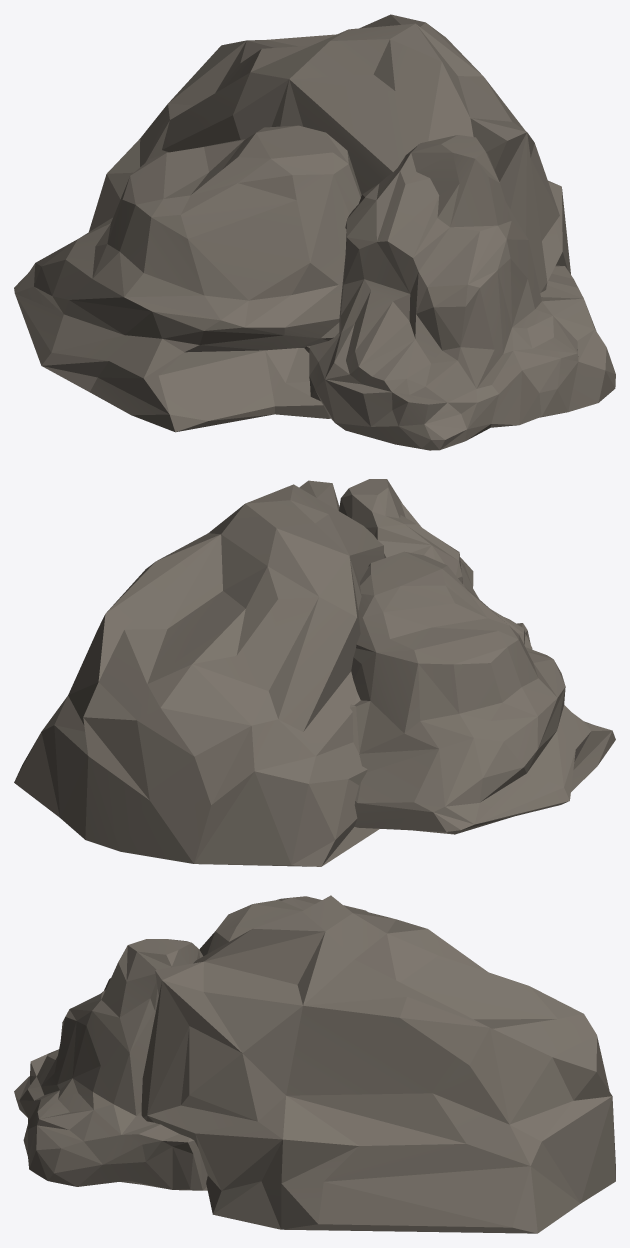
File: RockPile2.fbx
3 renders of one model, top to bottom at view 1: azimuth 30°, elevation 25°; view 2: azimuth 150°, elevation 25°; view 3: azimuth 270°, elevation 25°, orthographic. The views are drawn at different scales.
Visible parts, largest first — view 1: SM_Env_Rock_Large_01, SM_Env_Rock_Huge_01__1_, SM_Env_Rock_Huge_04; view 2: SM_Env_Rock_Huge_04, SM_Env_Rock_Large_01, SM_Env_Rock_Huge_01__1_; view 3: SM_Env_Rock_Huge_04, SM_Env_Rock_Huge_01__1_, SM_Env_Rock_Large_01.
Part boxes in pixels (left/top/right/bottom): SM_Env_Rock_Large_01: left=14, top=125, right=361, bottom=432; SM_Env_Rock_Huge_01__1_: left=304, top=135, right=615, bottom=450; SM_Env_Rock_Huge_04: left=89, top=14, right=570, bottom=292; SM_Env_Rock_Huge_04: left=14, top=480, right=384, bottom=866; SM_Env_Rock_Large_01: left=350, top=551, right=615, bottom=834; SM_Env_Rock_Huge_01__1_: left=339, top=479, right=532, bottom=649; SM_Env_Rock_Huge_04: left=141, top=895, right=615, bottom=1233; SM_Env_Rock_Huge_01__1_: left=14, top=939, right=207, bottom=1190; SM_Env_Rock_Large_01: left=199, top=896, right=367, bottom=955.
Size of the model in its own units: 9480 by 4856 by 10617.
1 material, 1 textured.
